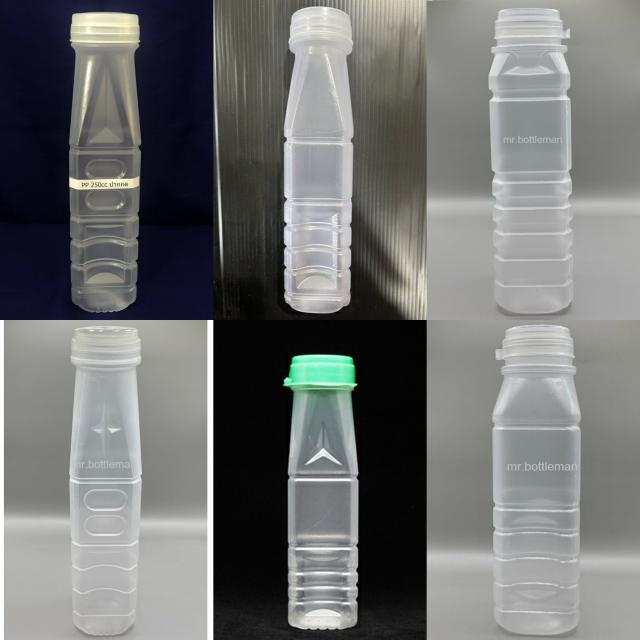Single-Use-Plastic: (492, 325, 580, 634), (489, 9, 574, 314), (70, 327, 141, 634), (69, 13, 141, 312), (284, 6, 354, 312), (284, 354, 359, 629)
